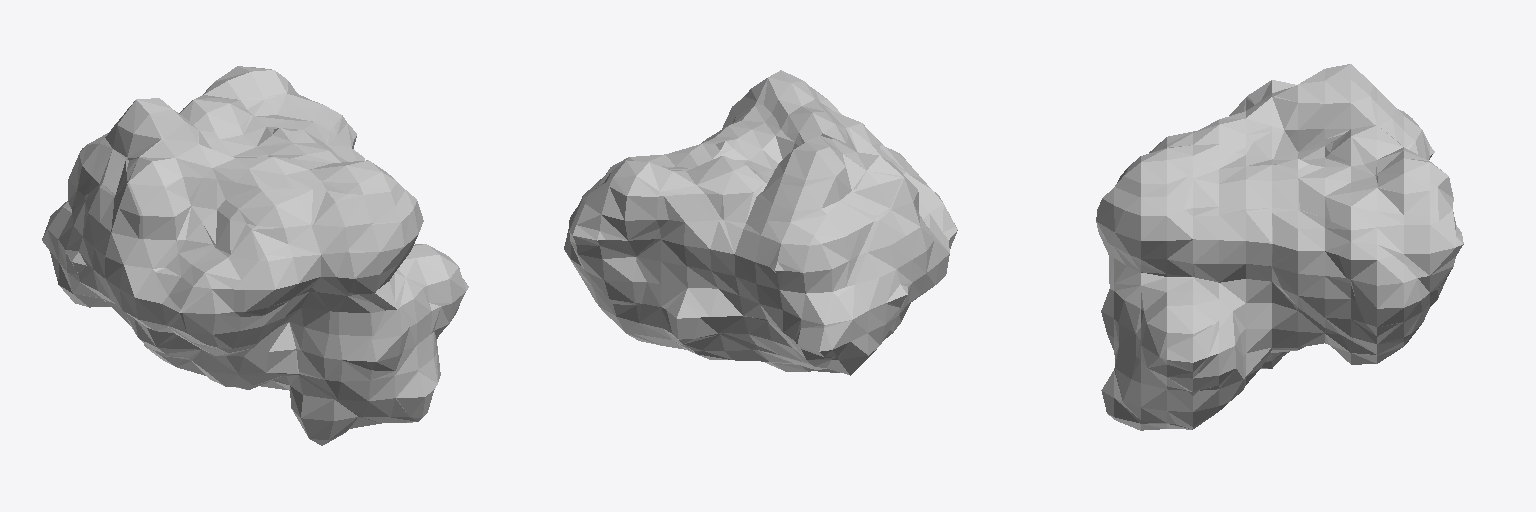
File: 5mg3_mb_cms.obj
The picture shows the model from 3 angles: view 1: azimuth 30°, elevation 25°; view 2: azimuth 150°, elevation 25°; view 3: azimuth 270°, elevation 25°; orthographic projection.
Size of the model in its own units: 116 by 103 by 114.